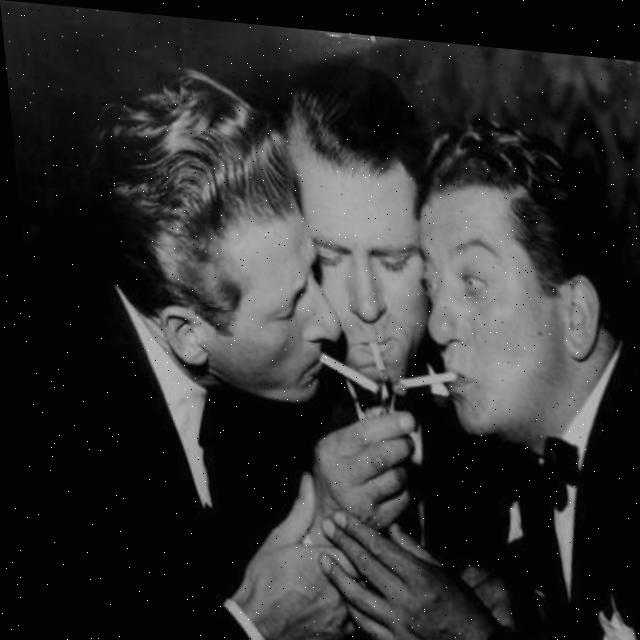cigarette: (312, 346, 372, 388), (389, 359, 453, 387), (364, 336, 382, 371)
